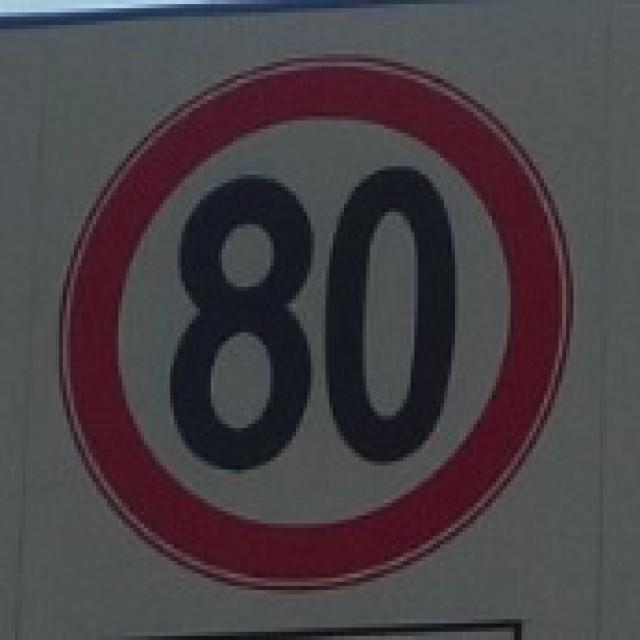Speed Limit -80-: (164, 160, 460, 478)
